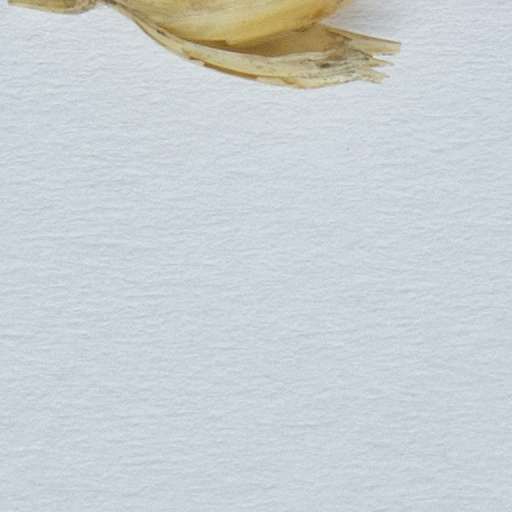Peel-poly: (0, 0, 400, 90)
